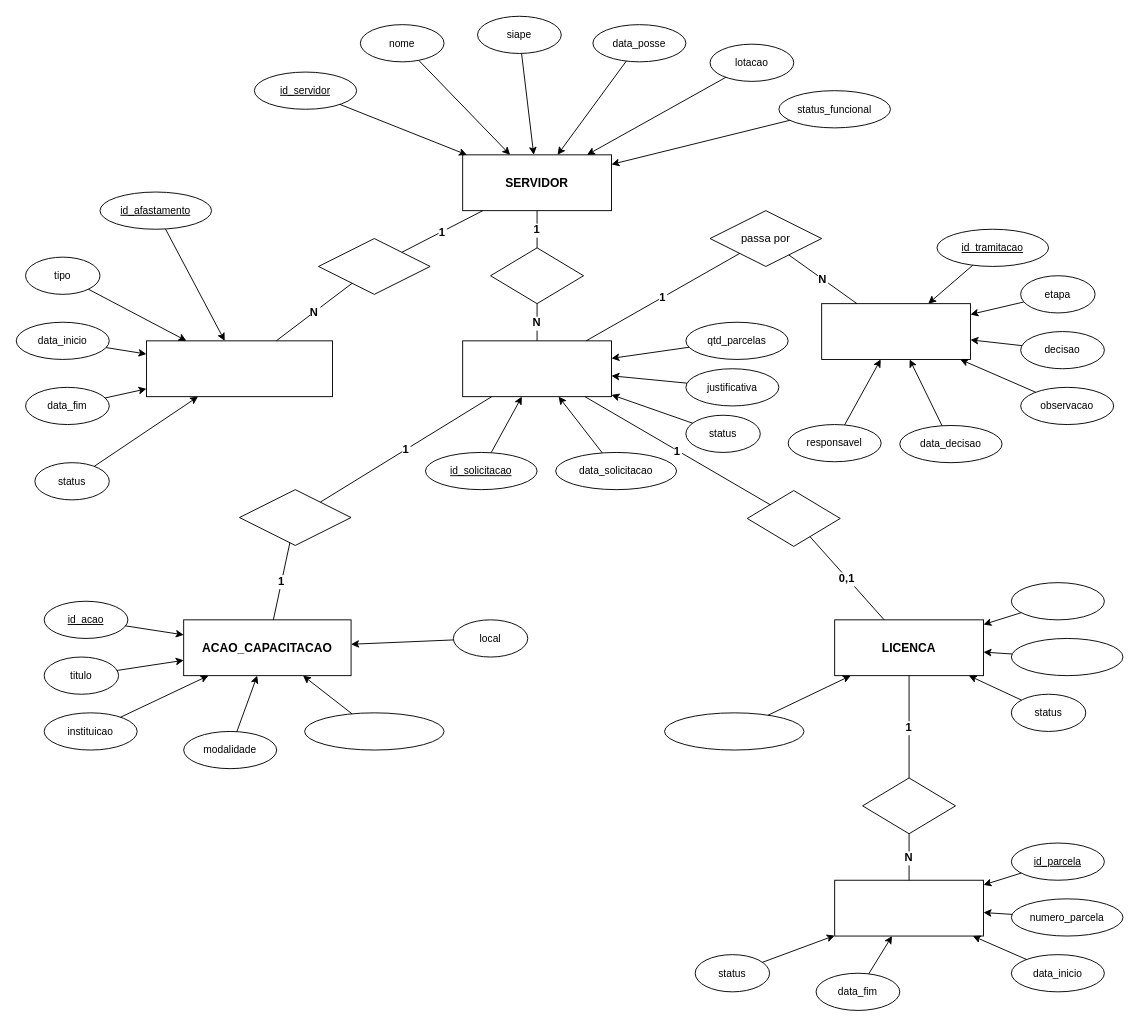
The diagram is 1139 pixels wide and 1027 high, and some of its shapes have lost their labels. Each missing label, with the box of its shape:
AFASTAMENTO_VIGENTE: (146, 340, 332, 397)
carga_horaria_semanal: (304, 712, 444, 750)
data_concessao: (1010, 638, 1123, 676)
faz: (490, 247, 584, 304)
gera: (746, 490, 840, 546)
id_licenca: (1010, 582, 1104, 620)
PARCELA: (834, 879, 983, 936)
possui: (318, 238, 430, 294)
refere-se a: (239, 489, 351, 545)
SOLICITACAO: (462, 340, 611, 397)
tem: (862, 777, 956, 834)
total_dias_aprovados: (664, 712, 804, 750)
TRAMITACAO: (821, 303, 970, 359)
